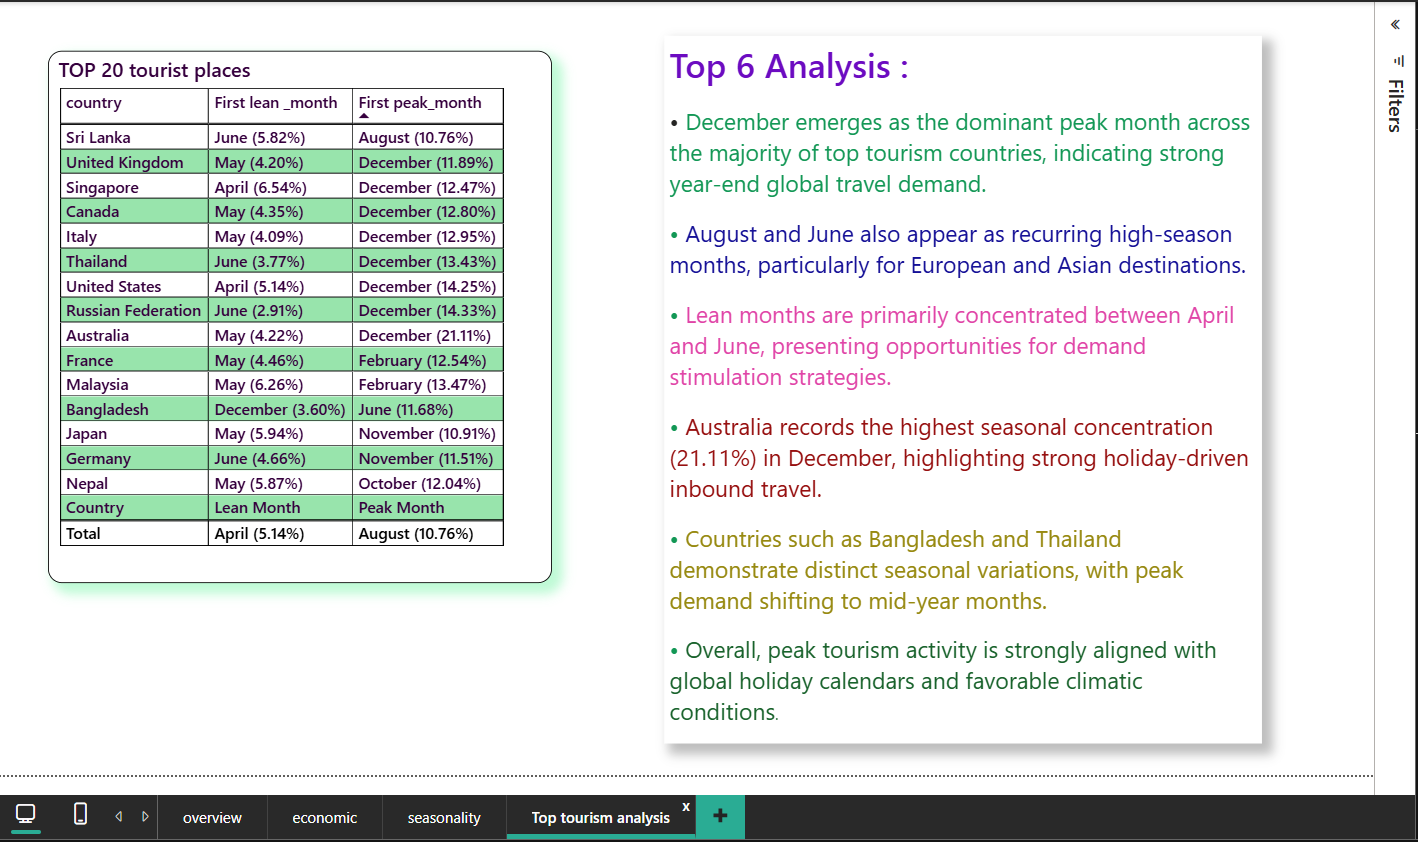

The page's visual inventory and layout, read from the dashboard file:
{"tool":"powerbi","page":{"name":"Top tourism analysis","canvas":[1280,720],"ordinal":3},"visuals":[{"type":"tableEx","title":"TOP 20 tourist places","fields":{"Values":["top 20.country","Min(top 20.lean _month)","Min(top 20.peak_month)"]},"box":[46.5,45.3,468.6,495.4],"z":0},{"type":"textbox","box":[619.8,31.4,555.8,658.1],"z":1000}]}

Visuals, with their boxes on the page's 1280x720 design canvas (x1, y1, x2, y2). These are canvas units, not pixel positions in the 1418x842 screenshot, which may show the page scaled, cropped or inside an application window:
"TOP 20 tourist places" tableEx: <box>46,45,515,541</box>
textbox: <box>620,31,1176,690</box>
